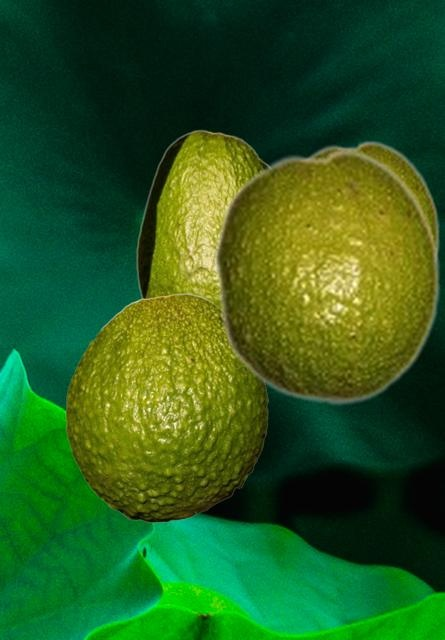avocado: (212, 147, 441, 406), (65, 293, 267, 521), (136, 129, 267, 304), (306, 139, 440, 249)
